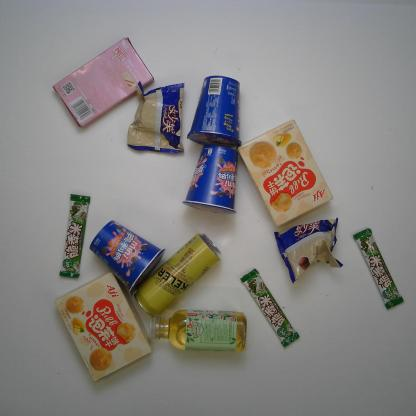Alcohol: (133, 232, 223, 317)
Chocolate: (240, 268, 300, 349), (353, 227, 405, 311), (58, 194, 91, 279)
Dessert: (53, 270, 155, 384), (237, 118, 334, 227), (52, 36, 155, 129), (89, 219, 168, 297), (274, 217, 344, 284), (126, 80, 185, 154), (181, 142, 239, 215), (185, 75, 242, 148)
Drink: (148, 308, 248, 353)
